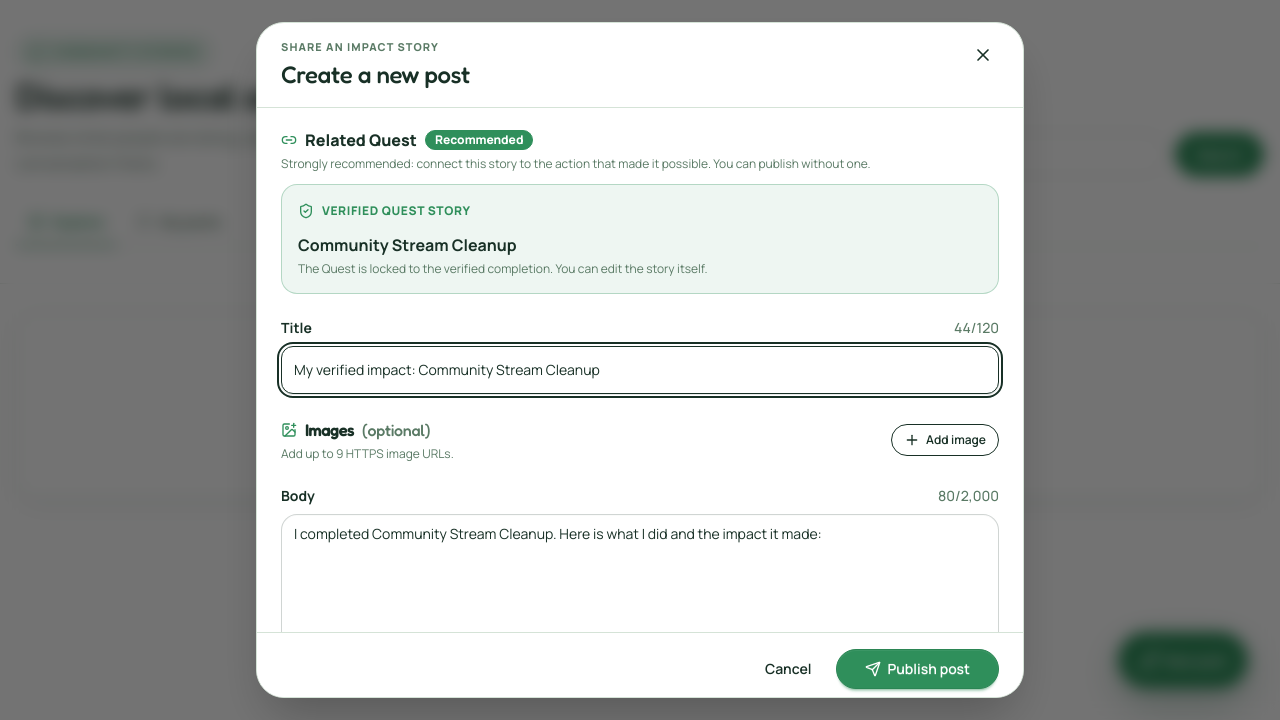
Test: Community post discovery and detail › locks a Verified Quest Story to the owned completion and publishes provenance
Expected: the text "Verified Quest Story" is shown, [298,203,471,219]
Expected: the text "The Quest is locked to the verified completion. You can edit the story itself." is shown, [298,260,708,277]
Click the button "Publish post" at (918, 669), box [836,649,999,689]
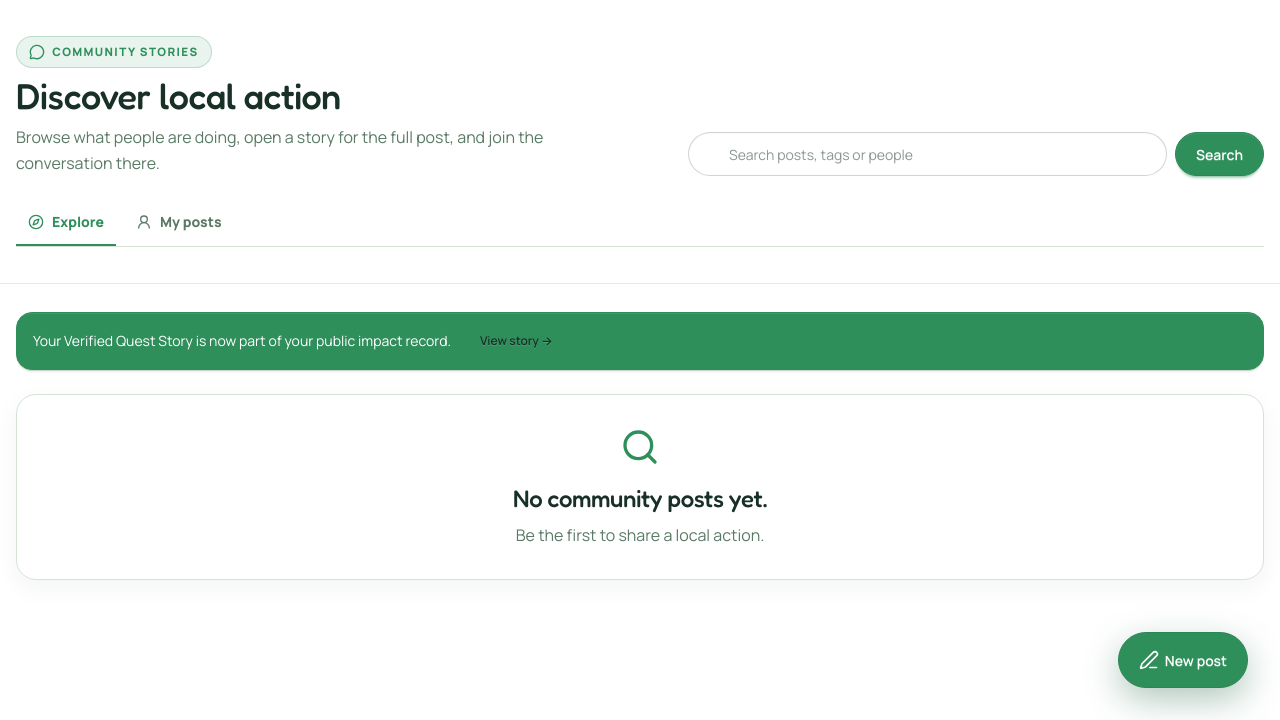
Expected: the text "Your Verified Quest Story is now part of your public impact record." is shown, [33,331,451,351]
